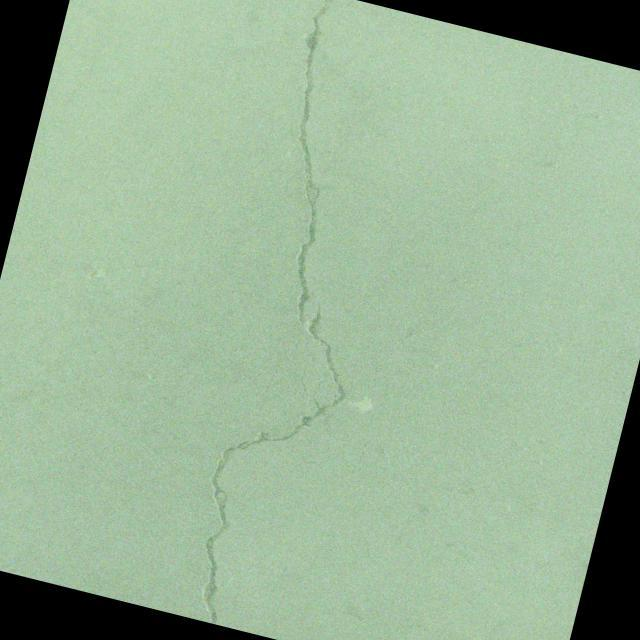crack: (159, 0, 440, 640), (279, 325, 304, 390)
